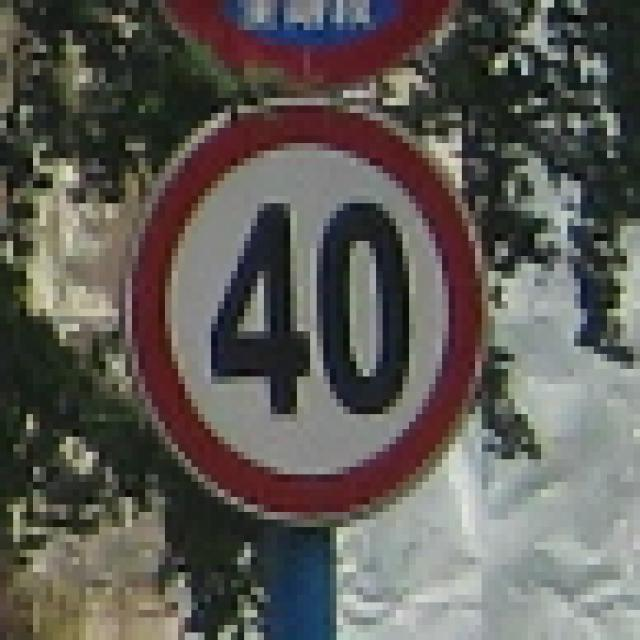Speed: (128, 98, 484, 532)
